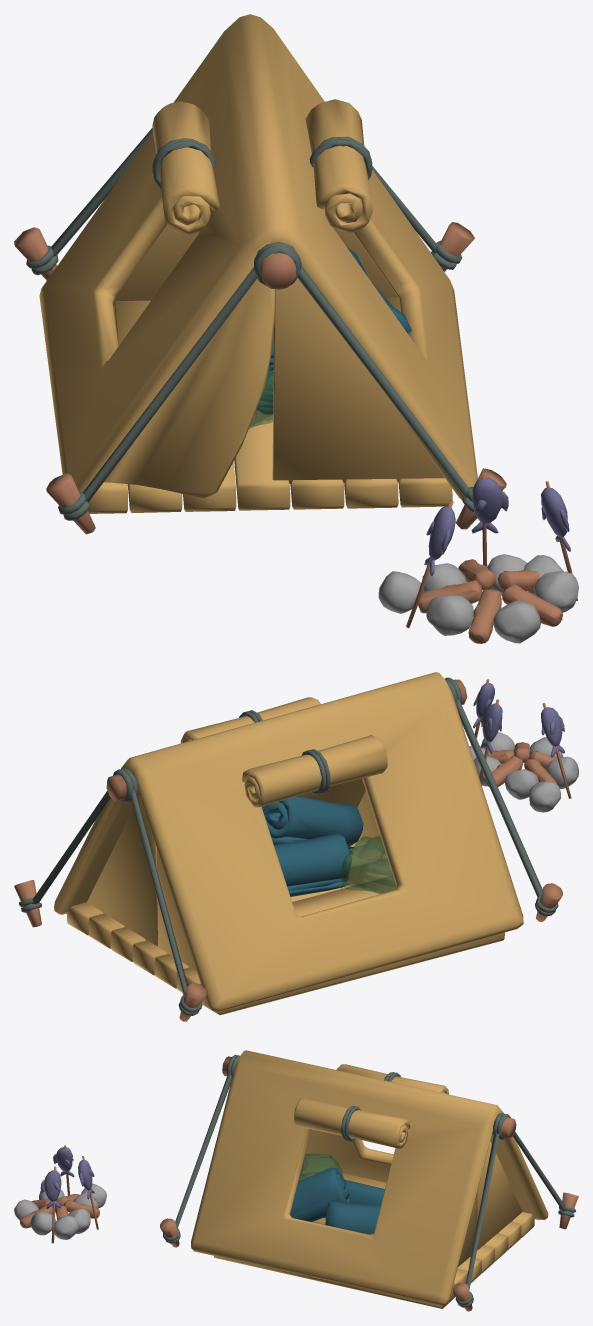
The model's file is camp.glb.
3 renders of one model, top to bottom at view 1: azimuth 30°, elevation 25°; view 2: azimuth 150°, elevation 25°; view 3: azimuth 270°, elevation 25°, orthographic. The views are drawn at different scales.
Parts seen in each view (by area): view 1: Plane, rock.006; view 2: Plane, rock.006; view 3: Plane, rock.006.
Part boxes in pixels (x1=…): Plane: x1=14, y1=14, x2=506, y2=534; rock.006: x1=378, y1=472, x2=578, y2=643; Plane: x1=14, y1=672, x2=562, y2=1021; rock.006: x1=469, y1=679, x2=578, y2=812; Plane: x1=160, y1=1050, x2=578, y2=1311; rock.006: x1=14, y1=1145, x2=106, y2=1243.
Size of the model in its own units: 3.84 by 1.86 by 5.7.
